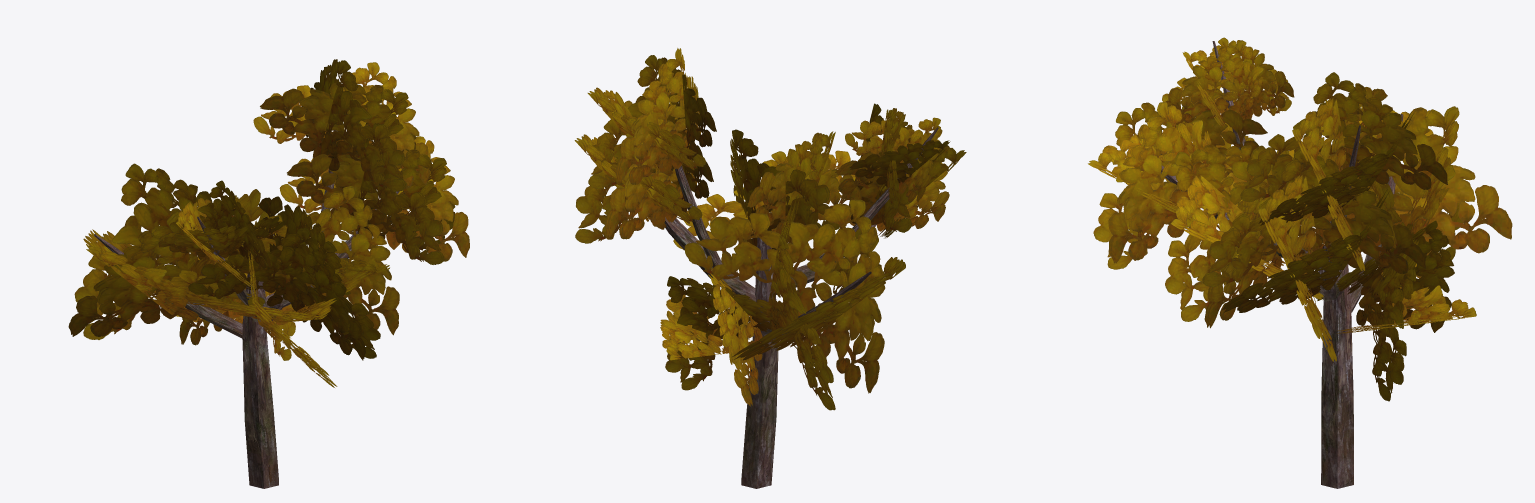
The model's file is shamo_shu_1.fbx.
3 views of the same model, side by side, from view 1: azimuth 30°, elevation 25°; view 2: azimuth 150°, elevation 25°; view 3: azimuth 270°, elevation 25° (orthographic). The views are drawn at different scales.
Visible parts, largest first — view 1: polySurface244, polySurface221, polySurface250, polySurface209, polySurface226, polySurface217, polySurface215, polySurface233, polySurface235, polySurface238, polySurface220, polySurface223 (+24 smaller); view 2: polySurface222, polySurface209, polySurface217, polySurface252, polySurface249, polySurface216, polySurface225, polySurface247, polySurface253, polySurface228, polySurface235, polySurface223 (+29 smaller); view 3: polySurface218, polySurface236, polySurface243, polySurface209, polySurface248, polySurface231, polySurface224, polySurface225, polySurface242, polySurface251, polySurface237, polySurface216 (+25 smaller).
Boxes of the visible parts, box(x1,y1,x2,y2) form: polySurface244: box(188, 229, 364, 360); polySurface221: box(70, 191, 270, 336); polySurface250: box(224, 187, 399, 335); polySurface209: box(242, 273, 278, 488); polySurface226: box(74, 165, 275, 339); polySurface217: box(301, 59, 404, 191); polySurface215: box(260, 84, 416, 164); polySurface233: box(287, 151, 455, 250); polySurface235: box(336, 122, 442, 264); polySurface238: box(279, 136, 469, 260); polySurface220: box(253, 62, 429, 188); polySurface223: box(83, 233, 263, 320); polySurface222: box(684, 199, 883, 393); polySurface209: box(741, 237, 778, 488); polySurface217: box(618, 48, 701, 184); polySurface252: box(665, 278, 784, 390); polySurface249: box(730, 130, 839, 249); polySurface216: box(588, 55, 714, 188); polySurface225: box(766, 197, 832, 410); polySurface247: box(749, 132, 835, 242); polySurface253: box(710, 268, 762, 405); polySurface228: box(845, 117, 941, 201); polySurface235: box(607, 104, 697, 239); polySurface223: box(734, 235, 905, 360); polySurface218: box(1240, 74, 1447, 202); polySurface236: box(1202, 150, 1425, 287); polySurface243: box(1110, 102, 1254, 263); polySurface209: box(1321, 221, 1353, 488); polySurface248: box(1165, 146, 1316, 321); polySurface231: box(1160, 40, 1291, 124); polySurface224: box(1289, 105, 1512, 254); polySurface225: box(1294, 107, 1464, 259); polySurface242: box(1093, 102, 1266, 269); polySurface251: box(1356, 223, 1417, 400); polySurface237: box(1224, 191, 1389, 312); polySurface216: box(1295, 87, 1387, 270).
Bounding box in the file's own units: 18.71 × 18 × 16.5.
